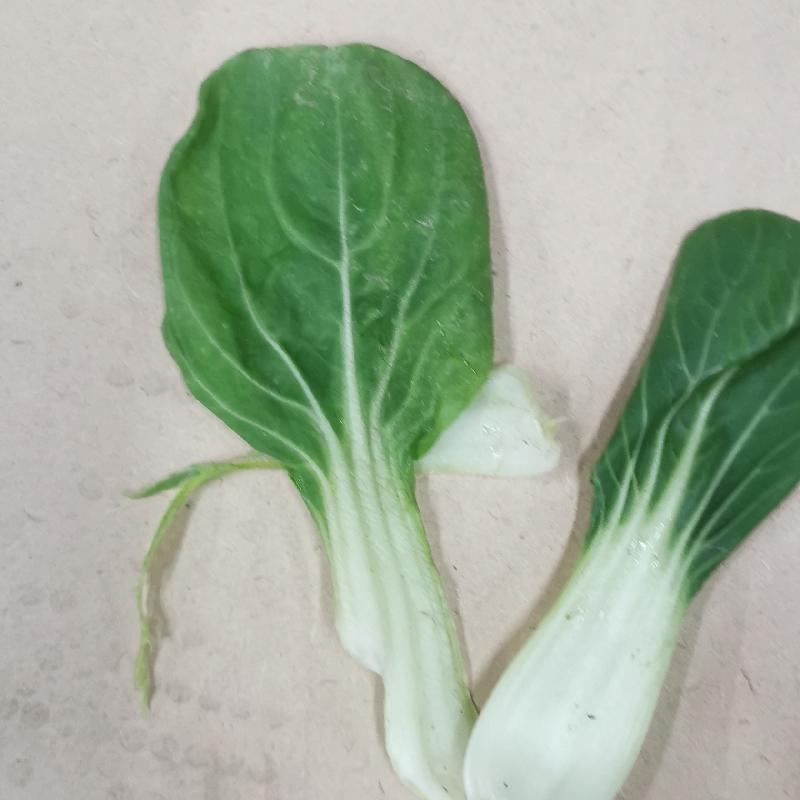green vegatable: (154, 37, 482, 793), (499, 177, 800, 799)
